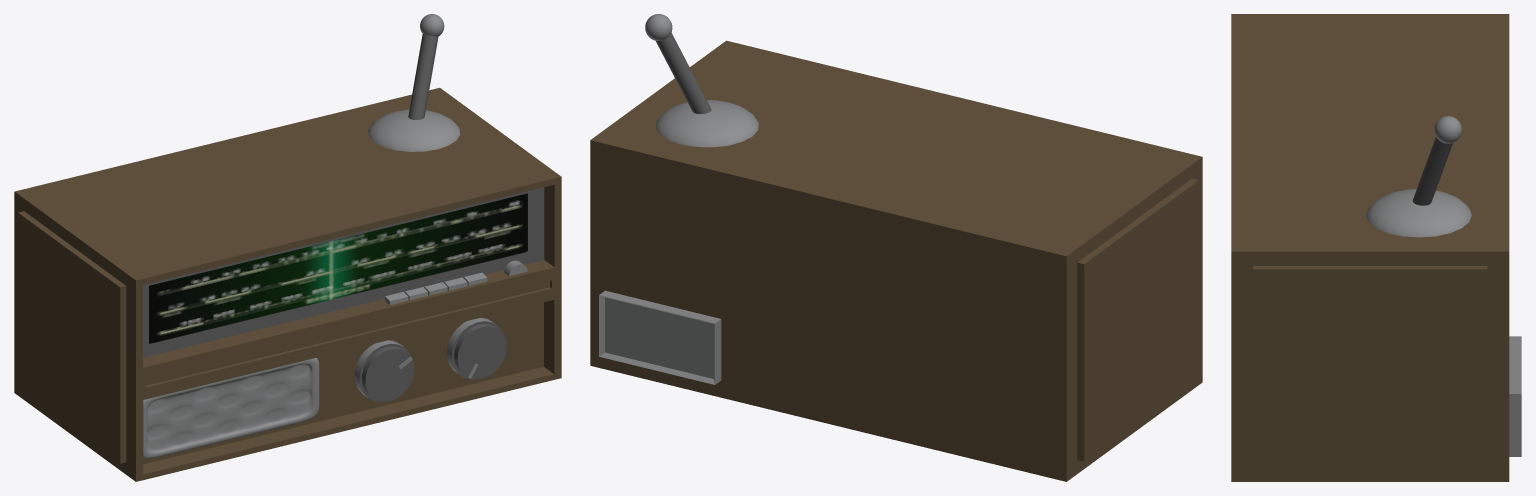
Rendered from Radio.fbx.
3 views of the same model, side by side, from view 1: azimuth 30°, elevation 25°; view 2: azimuth 150°, elevation 25°; view 3: azimuth 270°, elevation 25° (orthographic). The views are drawn at different scales.
Parts seen in each view (by area): view 1: Radio, RadioSpeaker; view 2: Radio; view 3: Radio.
Boxes of the visible parts, x1,y1,x2,y2 form: Radio: (14,14,561,481); RadioSpeaker: (143,358,319,459); Radio: (590,14,1202,481); Radio: (1231,14,1521,481).
Bounding box in the file's own units: 71.18 × 46.92 × 35.77.
4 materials, 1 textured.
